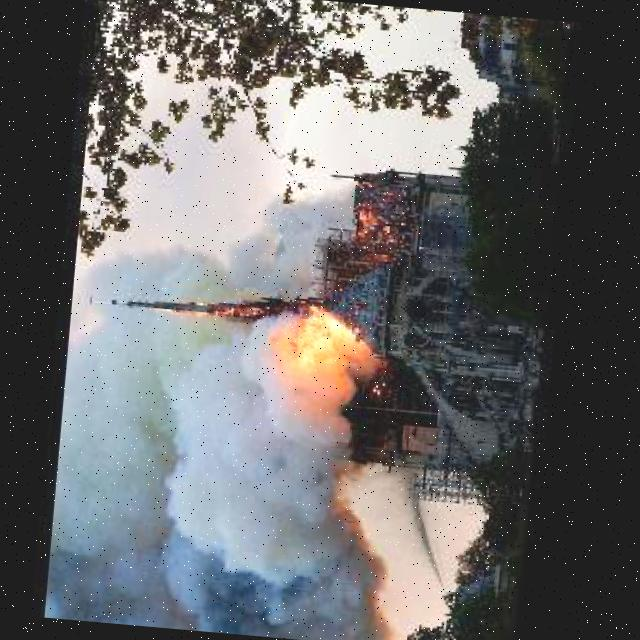fire: (253, 303, 360, 399), (333, 177, 418, 267), (132, 286, 261, 334)
